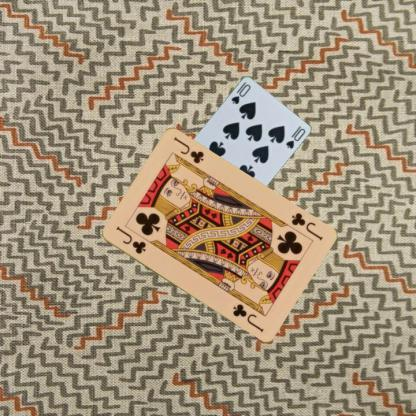10s: (228, 79, 252, 105)
Jc: (288, 210, 324, 242), (113, 224, 148, 256)
